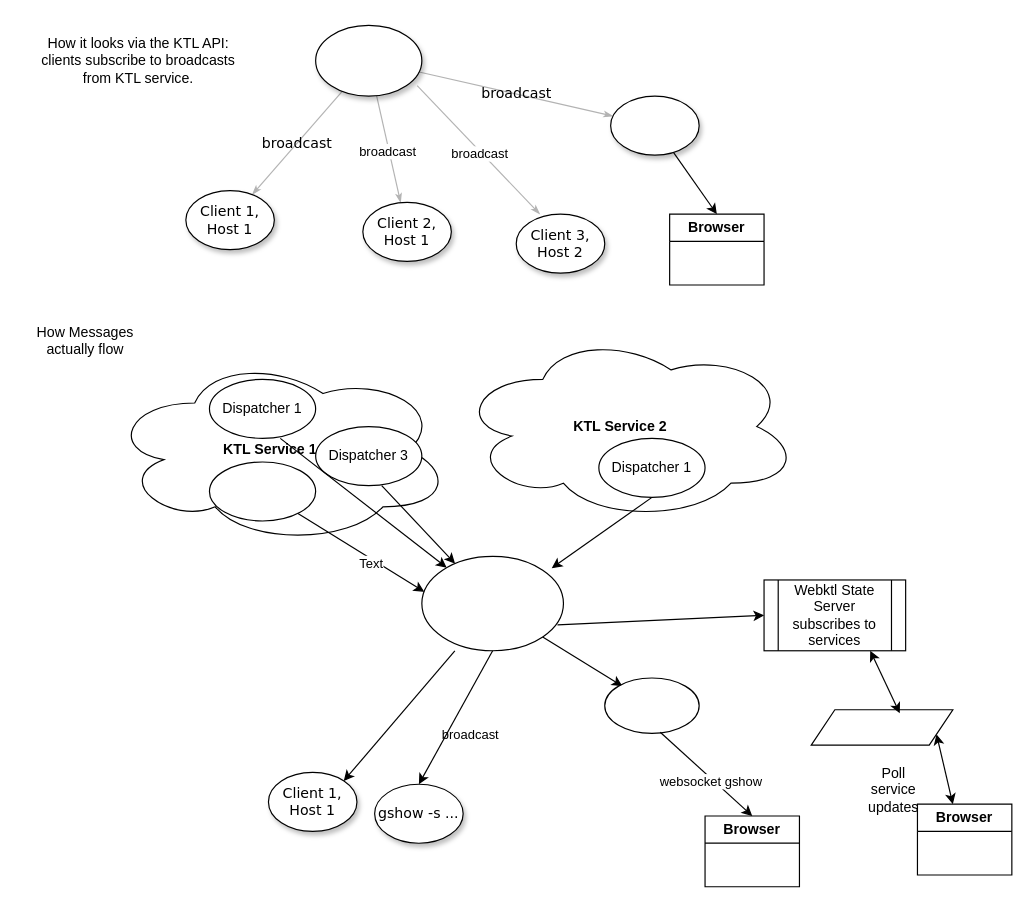
Some shapes in this 1033 by 907 pixel diagram are drawn without their labels. Here are the shapes that lost their labels. From the top down, the centre of each, then its label:
pixel 369 61: KTL Service
pixel 655 126: Webktl
pixel 262 491: Dispatcher 2
pixel 492 603: Traffic -- Message Broker
pixel 651 705: Gshowd / Gaas
pixel 881 727: Webktl cgi-bin connector
